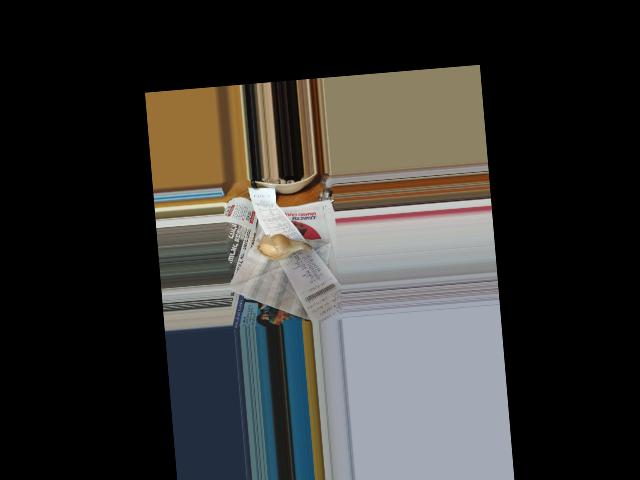onion: (256, 234, 297, 262)
